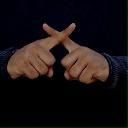hand: (42, 23, 110, 84), (6, 21, 76, 80)
